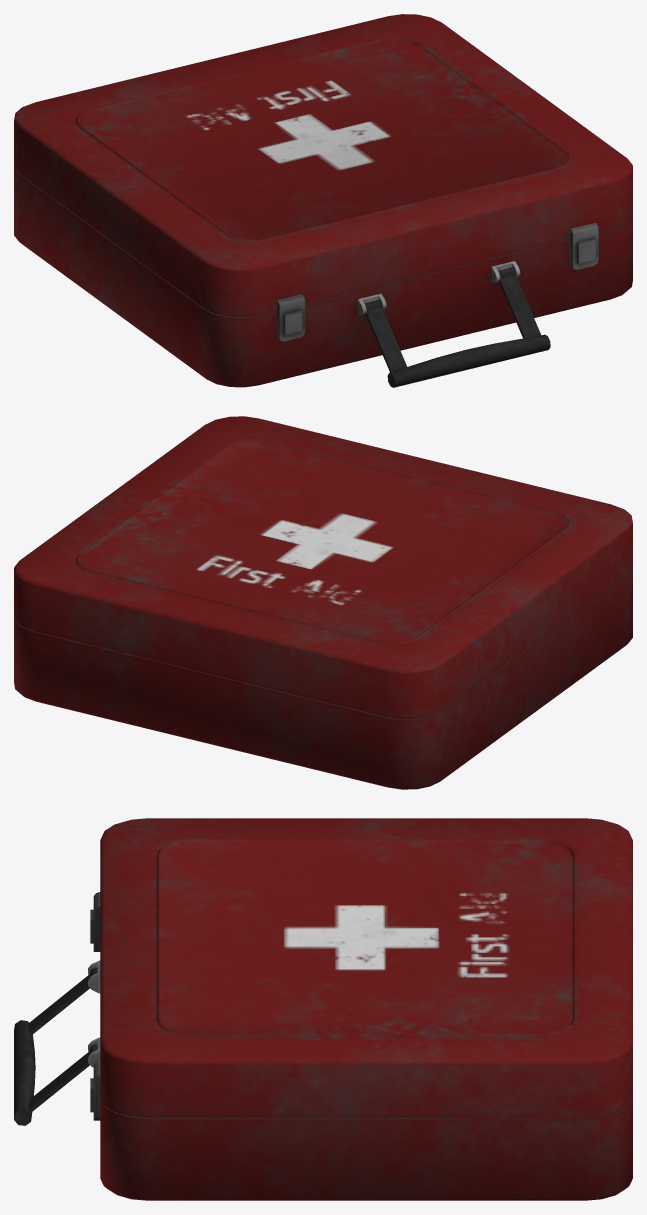
The model's file is FirstAidKit04.glb.
The picture shows the model from 3 angles, top to bottom: view 1: azimuth 30°, elevation 25°; view 2: azimuth 150°, elevation 25°; view 3: azimuth 270°, elevation 25°; orthographic projection. The views are drawn at different scales.
Parts seen in each view (by area): view 1: FA_Kit_04; view 2: FA_Kit_04; view 3: FA_Kit_04.
Boxes of the visible parts, box(x1,y1,x2,y2) form: FA_Kit_04: box(14, 14, 632, 387); FA_Kit_04: box(14, 416, 632, 789); FA_Kit_04: box(14, 818, 632, 1200).
Bounding box in the file's own units: 0.39 × 0.1078 × 0.4182.
Materials: 1 (1 with a texture image).
